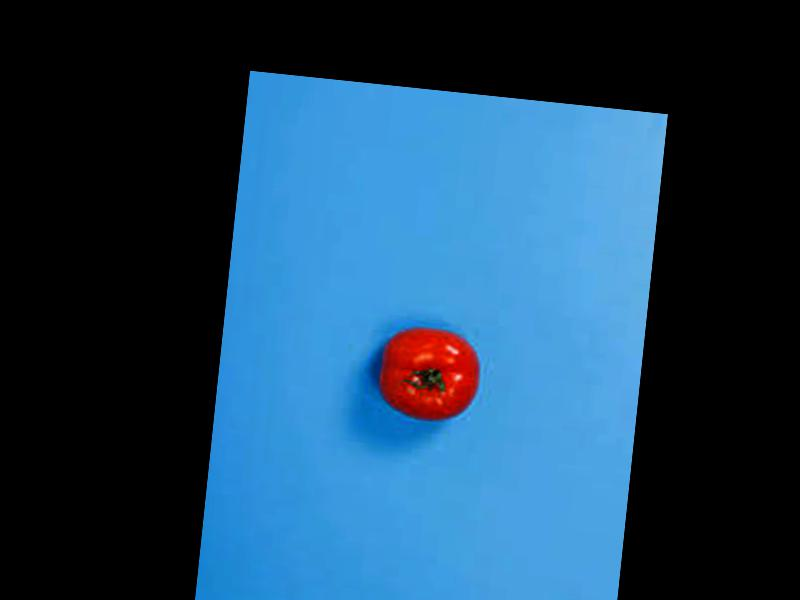Tomato: (375, 324, 485, 428)
